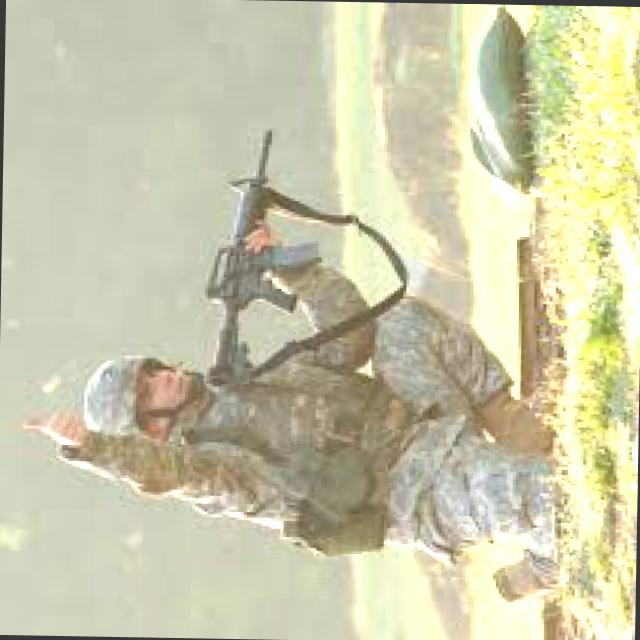long weapon: (208, 106, 337, 394)
